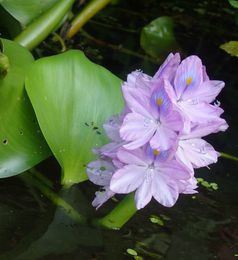water_hyacinth: (0, 0, 238, 228)
